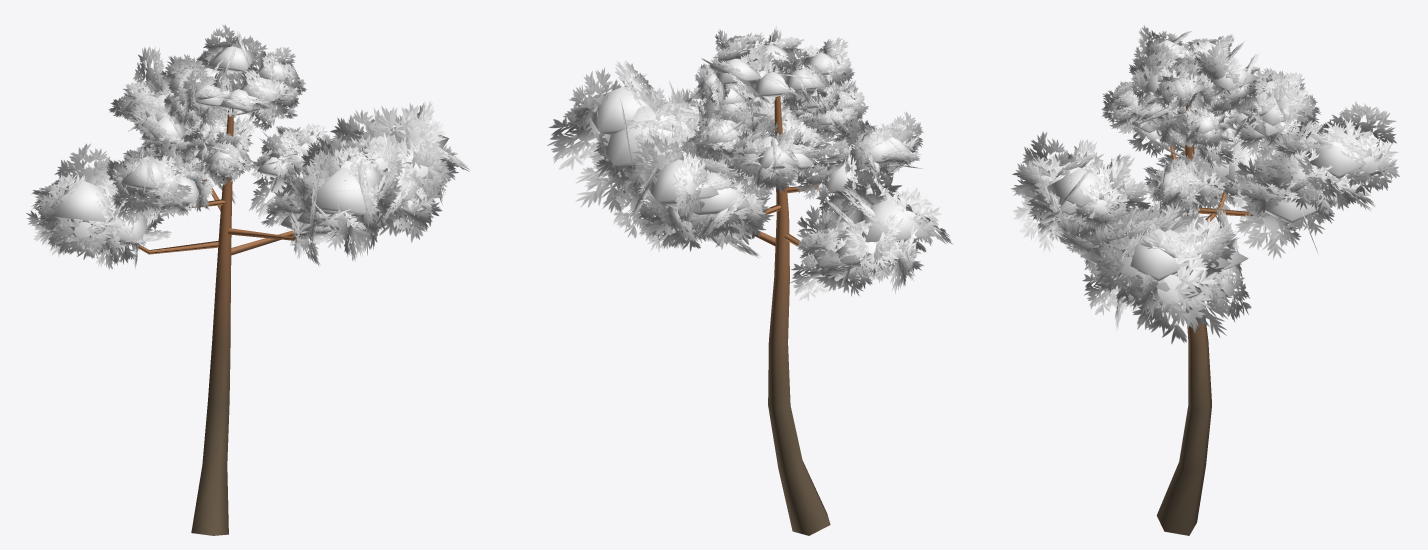
Rendered from tall-full.glb.
3 renders of one model, left to right at view 1: azimuth 30°, elevation 25°; view 2: azimuth 150°, elevation 25°; view 3: azimuth 270°, elevation 25°, orthographic. The views are drawn at different scales.
Visible parts, largest first — view 1: crown, trunk; view 2: crown, trunk; view 3: crown, trunk.
Part boxes in pixels (x1,y1,x2,y2): crown: (26,24,469,269); trunk: (134,110,300,535); crown: (547,26,953,300); trunk: (746,96,830,535); crown: (1011,25,1399,344); trunk: (1156,104,1265,535).
Bounding box in the file's own units: 17.89 × 19.48 × 14.29.
Materials: 2 (1 with a texture image).
